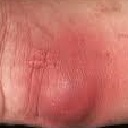Cellulitis: (24, 47, 55, 76)
